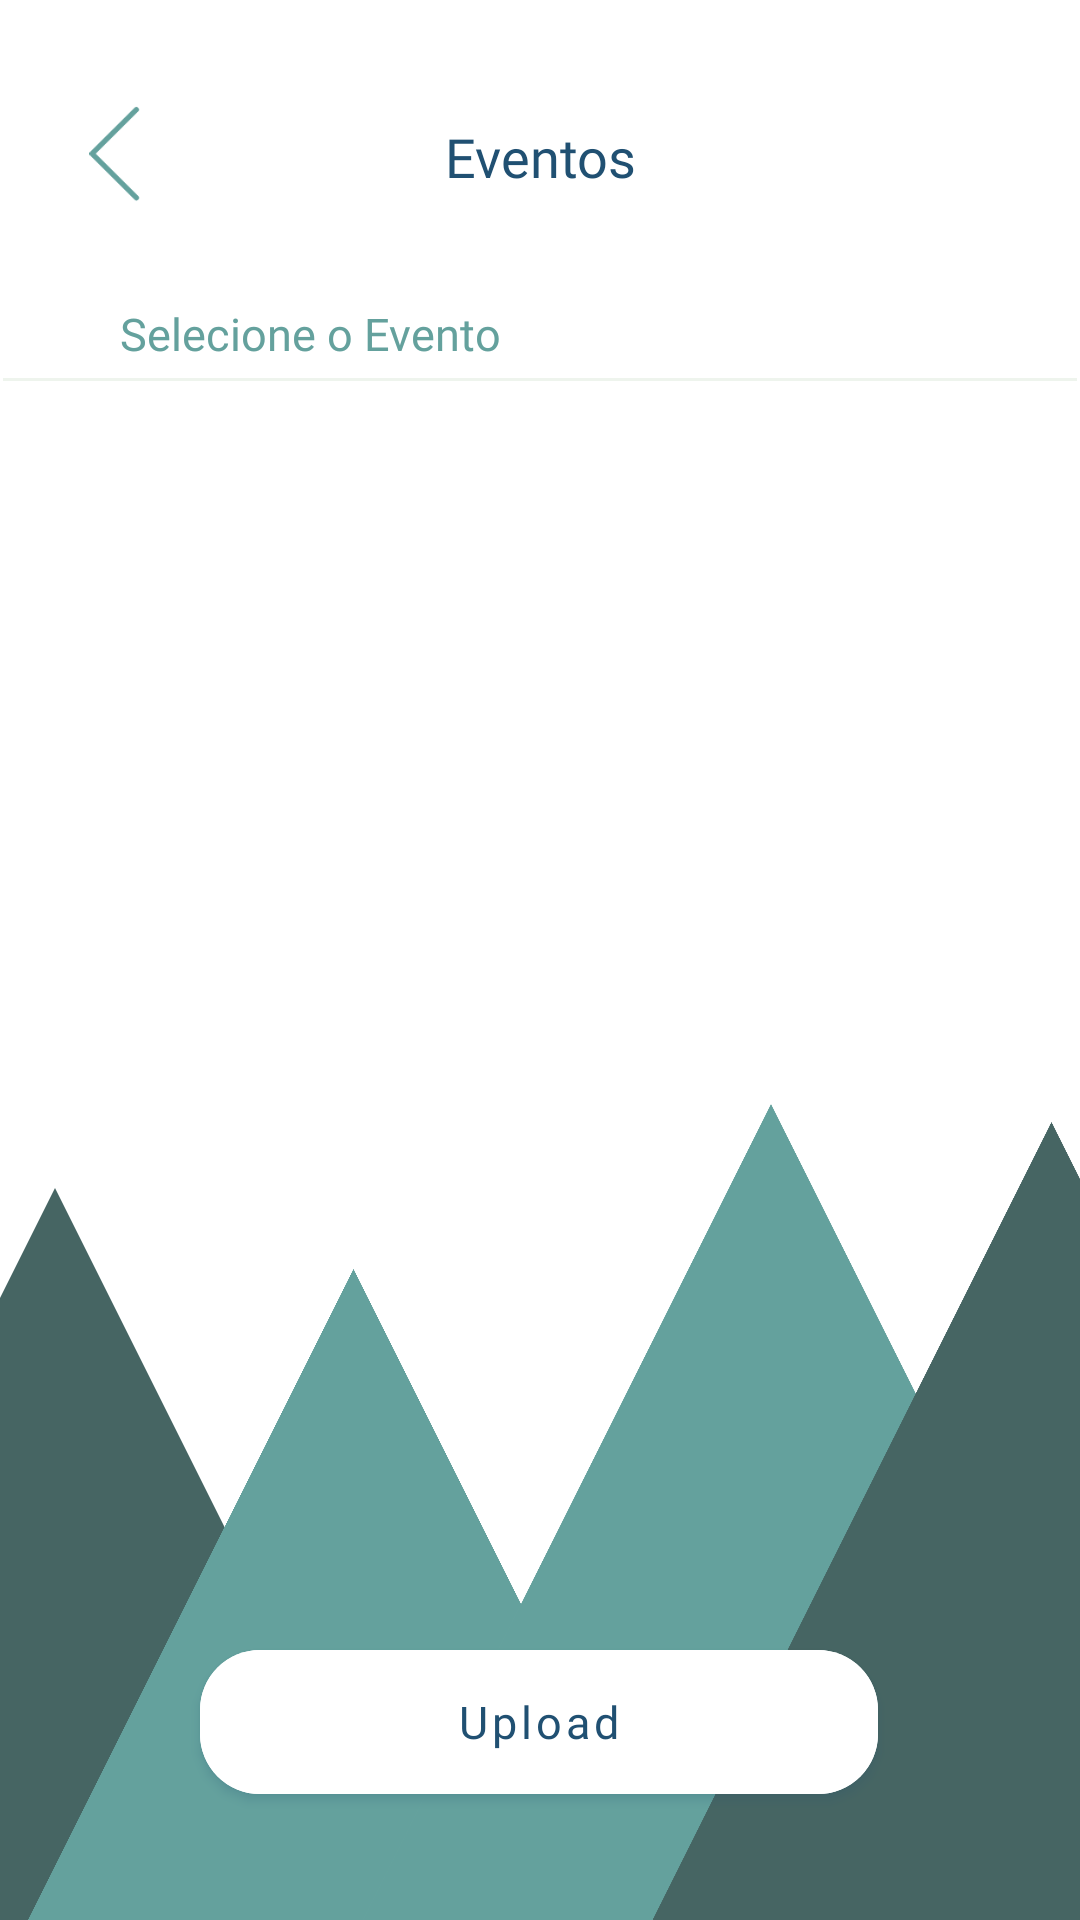

Icons on this 1080x1920 Android screen, each with the point to tap as point (x, y):
voltar: point (114, 154)
